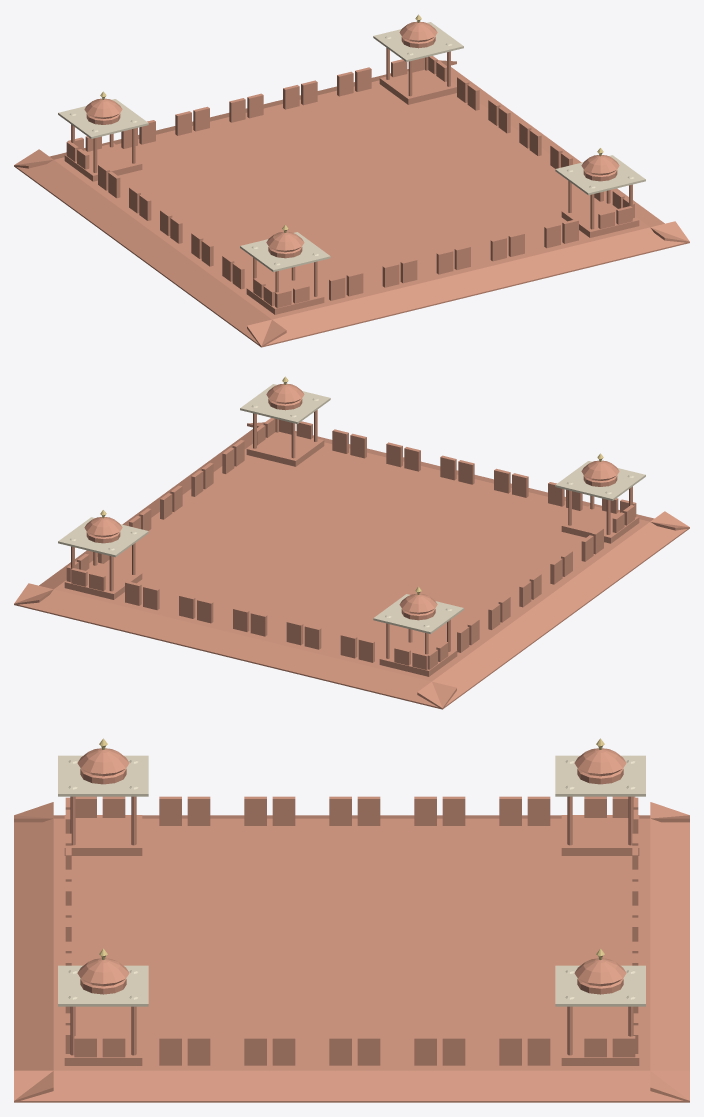
The model's file is kit_baradari_roof.glb.
3 views of the same model, one above another, from view 1: azimuth 30°, elevation 25°; view 2: azimuth 150°, elevation 25°; view 3: azimuth 270°, elevation 25° (orthographic). The views are drawn at different scales.
Visible parts, largest first — view 1: kit_baradari_roof; view 2: kit_baradari_roof; view 3: kit_baradari_roof.
Boxes of the visible parts, box(x1,y1,x2,y2) form: kit_baradari_roof: box(14, 14, 689, 347); kit_baradari_roof: box(14, 376, 689, 709); kit_baradari_roof: box(14, 738, 689, 1102).
Size of the model in its own units: 13.6 by 2.65 by 13.6.
